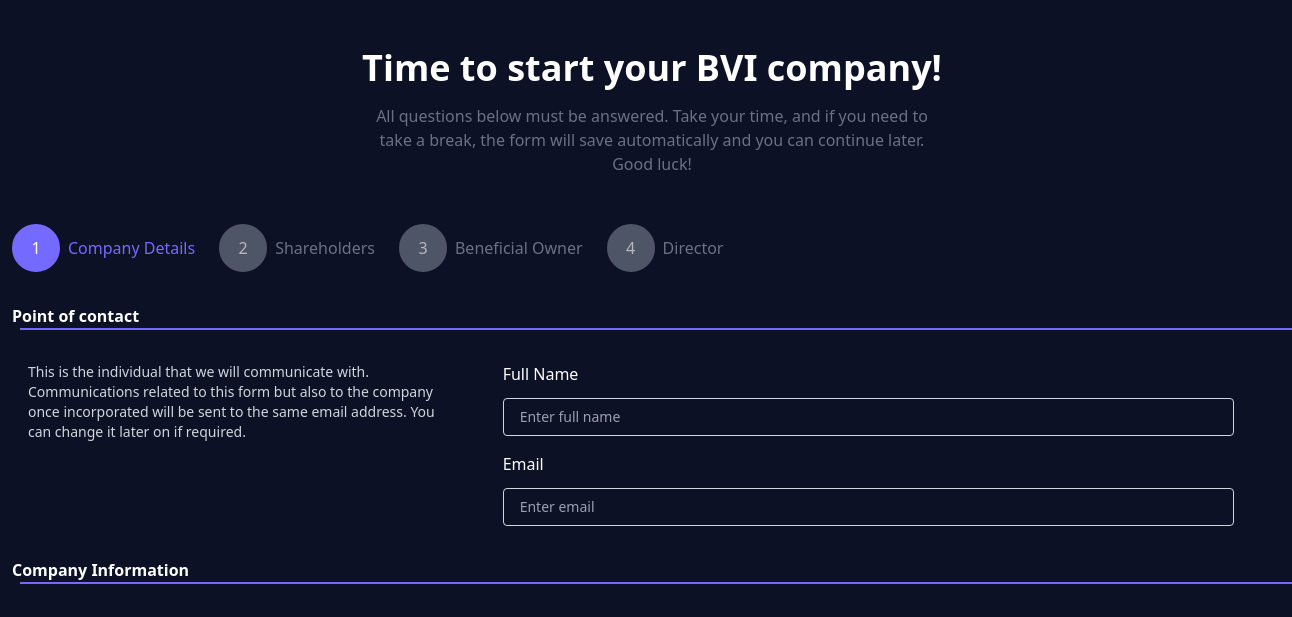
Test: Testing Home View › testing full name special keyword validation
Type "korporatio" into the field with test id "full-name" at [868, 417], box [503,398,1234,436]
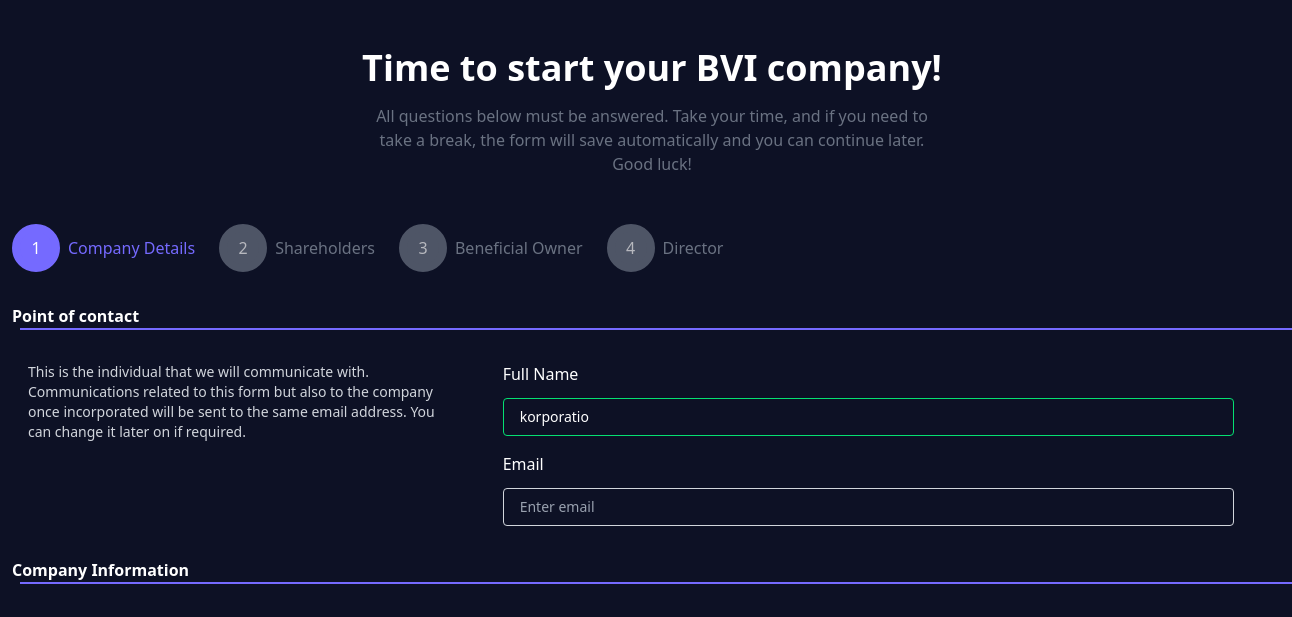
Leave the field with test id "full-name", box [503,398,1234,436]
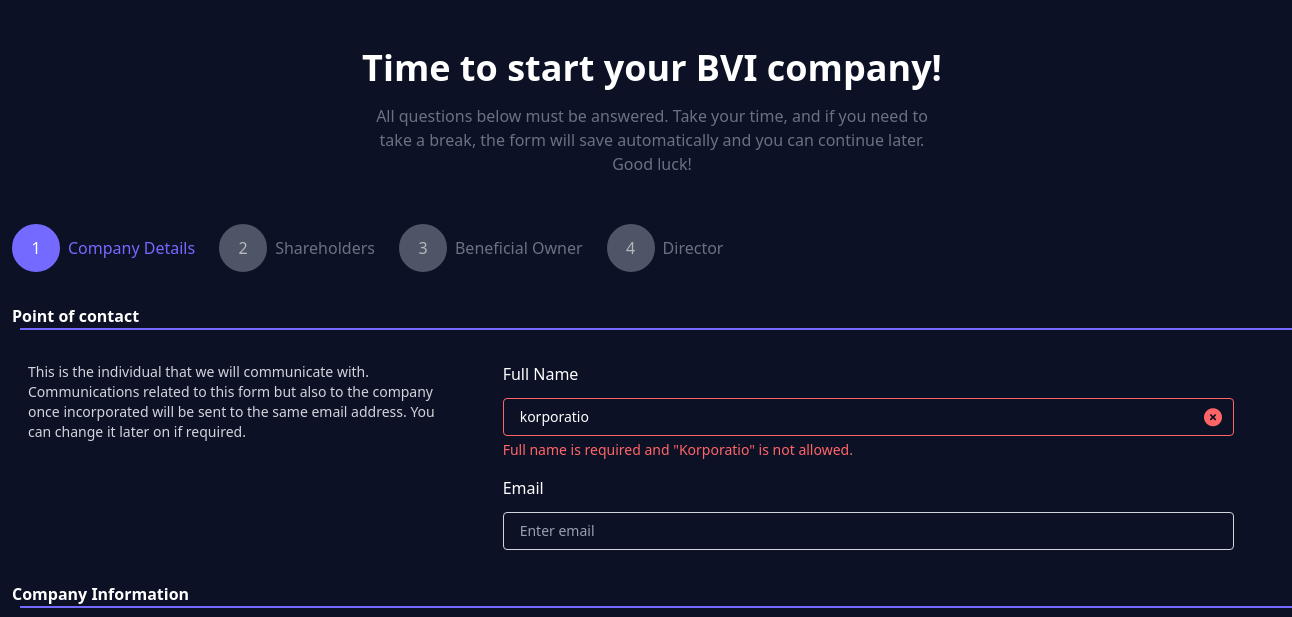
Expected: the text "Full name is required and \"Korporatio\" is not allowed." is shown, [503,440,853,459]
